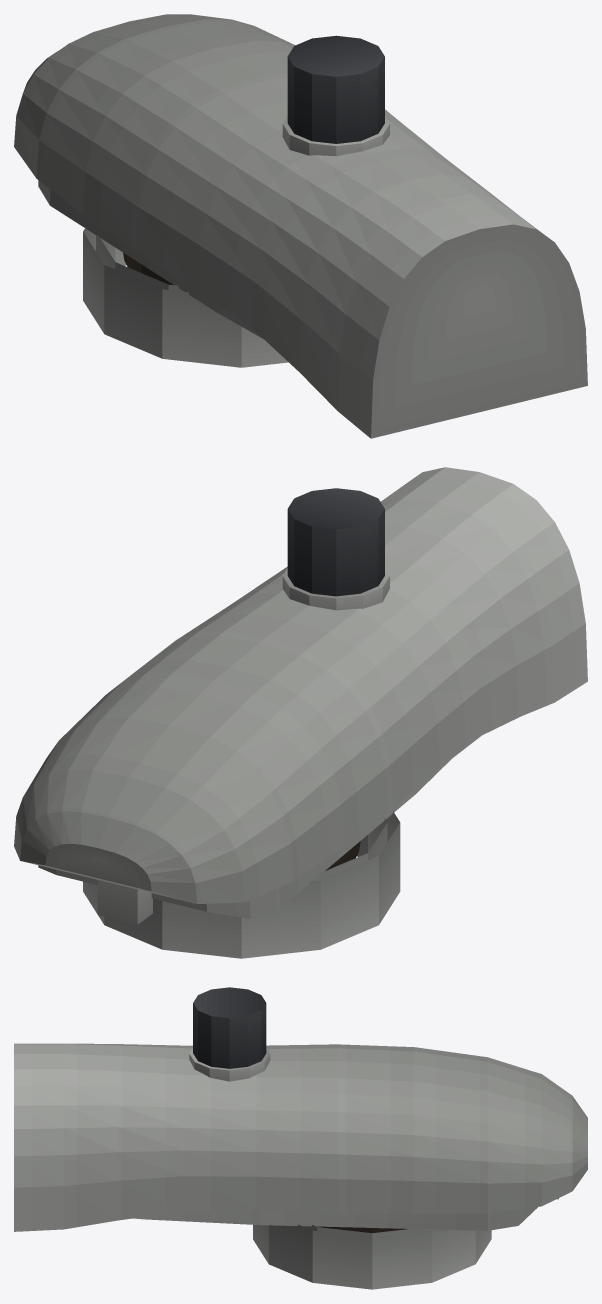
File: streetlight_gem400r2gs.obj
The picture shows the model from 3 angles, top to bottom: view 1: azimuth 30°, elevation 25°; view 2: azimuth 150°, elevation 25°; view 3: azimuth 270°, elevation 25°; orthographic projection. The views are drawn at different scales.
Visible parts, largest first — view 1: fixture; view 2: fixture; view 3: fixture.
Boxes of the visible parts, box(x1,y1,x2,y2) form: fixture: box(14, 14, 587, 438); fixture: box(14, 467, 587, 958); fixture: box(14, 987, 587, 1289).
Bounding box in the file's own units: 0.3875 × 0.4669 × 0.9312.
